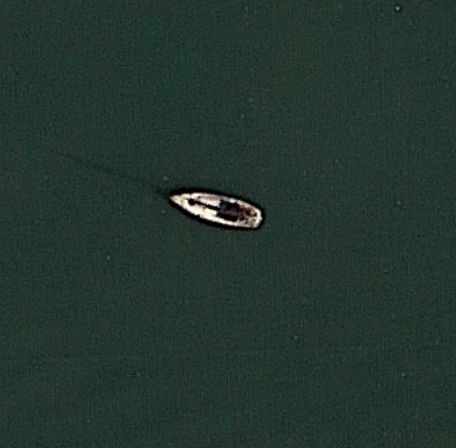boat: (160, 181, 265, 232)
